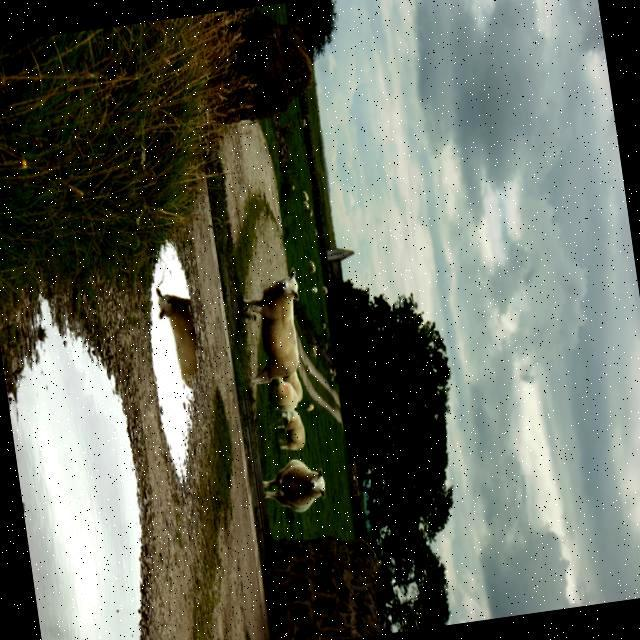sheep: (249, 267, 299, 381), (265, 458, 326, 511)
